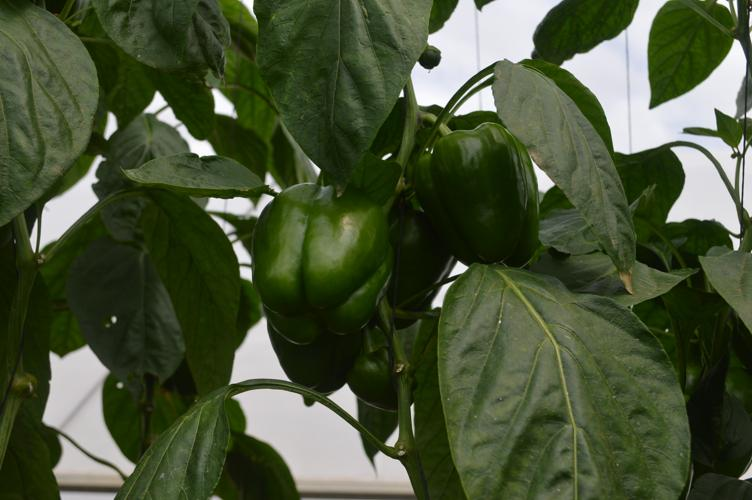BellPepper: (253, 182, 391, 343), (413, 122, 539, 267), (261, 324, 368, 409), (380, 202, 452, 319), (350, 326, 397, 408)
